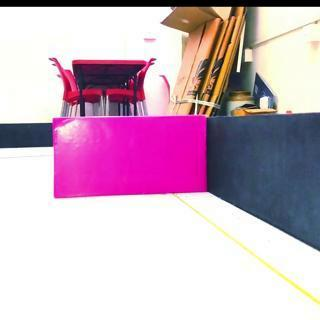xparking: (52, 116, 207, 196)
